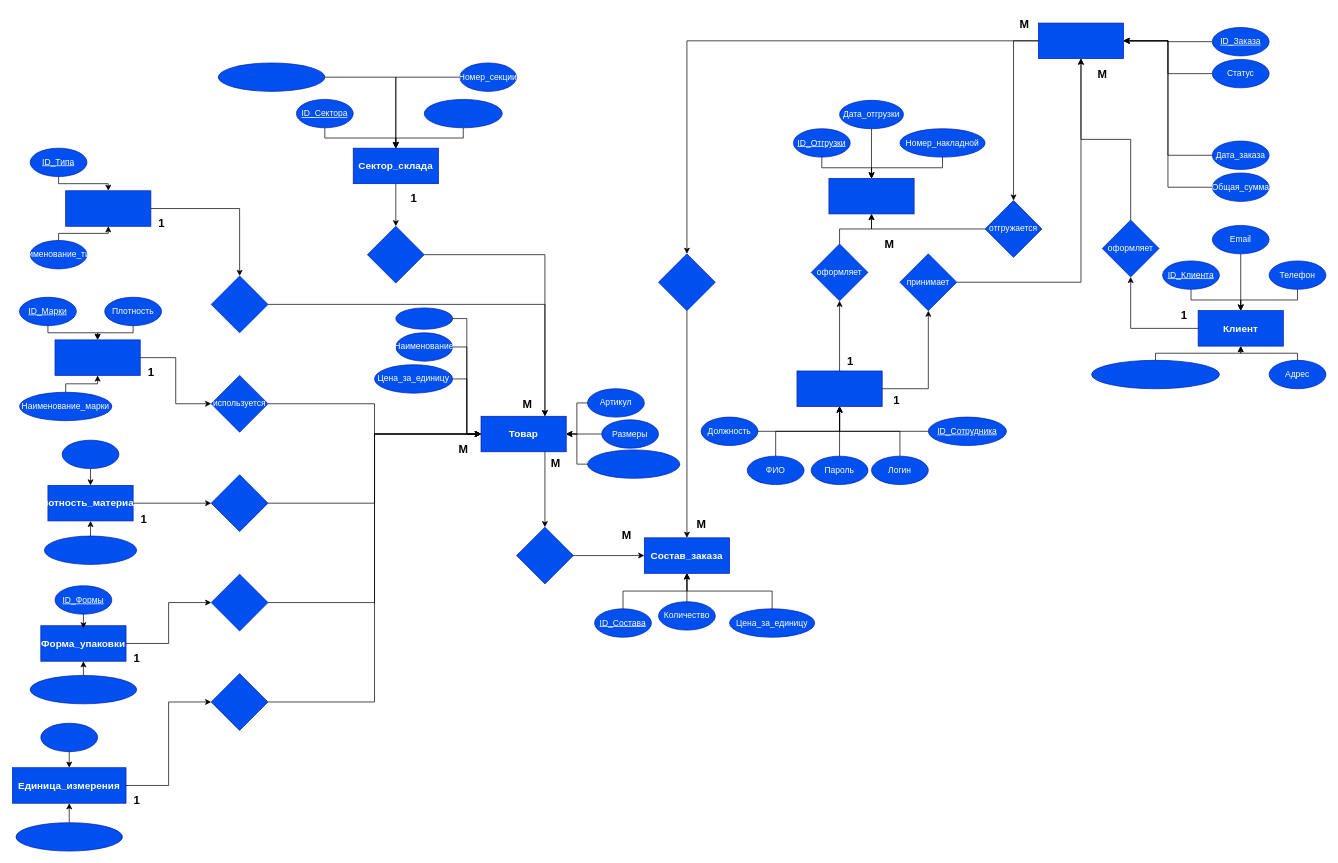
The diagram is 1338 pixels wide and 863 high, and some of its shapes have lost their labels. Each missing label, with the centre of its shape:
"ID_Единицы" belongs at (x=69, y=737).
"ID_Плотности" belongs at (x=90, y=454).
"ID_Товара" belongs at (x=424, y=318).
"включает" belongs at (x=686, y=282).
"входит в" belongs at (x=544, y=555).
"Заказ" belongs at (x=1081, y=40).
"Значение_плотности" belongs at (x=90, y=549).
"измеряет" belongs at (x=239, y=701).
"имеет" belongs at (x=239, y=503).
"Марка_материала" belongs at (x=97, y=357).
"Наименование_единицы" belongs at (x=68, y=836).
"Наименование_организации" belongs at (x=1155, y=374).
"Наименование_сектора" belongs at (x=271, y=76).
"Наименование_формы" belongs at (x=83, y=689).
"Номер_стеллажа" belongs at (x=463, y=113).
"Остаток_на_складе" belongs at (x=633, y=463).
"Отгрузка" belongs at (x=871, y=196).
"применяется" belongs at (x=239, y=602).
"размещает" belongs at (x=395, y=254).
"содержит" belongs at (x=239, y=304).
"Сотрудник" belongs at (x=839, y=388).
"Тип_продукции" belongs at (x=108, y=208).
